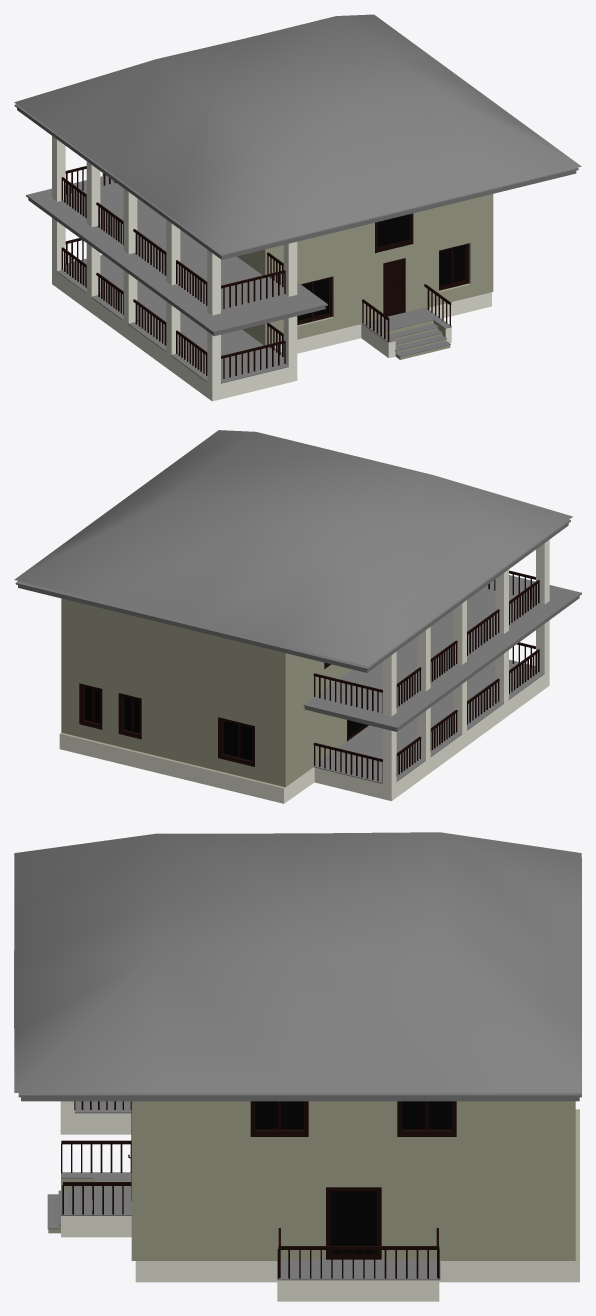
The model's file is gamecottage.fbx.
The picture shows the model from 3 angles, top to bottom: view 1: azimuth 30°, elevation 25°; view 2: azimuth 150°, elevation 25°; view 3: azimuth 270°, elevation 25°; orthographic projection. The views are drawn at different scales.
Visible parts, largest first — view 1: Plane003, Line001, Rectangle004, Line006, Line002, Rectangle006, FixedWindow002, PivotDoor001, PivotDoor003, Group001, FixedWindow001, Box011 (+22 smaller); view 2: Plane003, Line001, Rectangle004, Line002, Line006, Rectangle006, FixedWindow007, FixedWindow005, FixedWindow006, Railing018, Railing006, Box009 (+17 smaller); view 3: Plane003, Line001, Line002, Line006, Rectangle006, PivotDoor005, FixedWindow004, FixedWindow003, Railing010, Group001, Railing008, Railing009.
Boxes of the visible parts, <box> form: Plane003: <box>14,14,581,254</box>; Line001: <box>102,173,493,345</box>; Rectangle004: <box>26,175,327,336</box>; Line006: <box>57,255,451,383</box>; Line002: <box>52,269,491,401</box>; Rectangle006: <box>14,104,578,259</box>; FixedWindow002: <box>439,243,469,290</box>; PivotDoor001: <box>383,258,405,316</box>; PivotDoor003: <box>375,213,413,253</box>; Group001: <box>389,323,450,357</box>; FixedWindow001: <box>297,276,332,325</box>; Box011: <box>86,161,100,226</box>; Plane003: <box>14,430,572,666</box>; Line001: <box>61,598,351,787</box>; Rectangle004: <box>303,575,581,731</box>; Line002: <box>59,670,549,803</box>; Line006: <box>313,659,544,783</box>; Rectangle006: <box>15,519,570,672</box>; FixedWindow007: <box>218,717,254,766</box>; FixedWindow005: <box>79,683,102,729</box>; FixedWindow006: <box>118,693,141,739</box>; Railing018: <box>313,673,382,713</box>; Railing006: <box>313,742,382,782</box>; Box009: <box>383,651,396,716</box>; Plane003: <box>14,832,581,1092</box>; Line001: <box>131,1101,575,1260</box>; Line002: <box>60,1109,579,1301</box>; Line006: <box>61,1101,440,1280</box>; Rectangle006: <box>18,857,581,1101</box>; PivotDoor005: <box>326,1187,381,1259</box>; FixedWindow004: <box>397,1101,456,1136</box>; FixedWindow003: <box>250,1101,308,1136</box>; Railing010: <box>277,1246,439,1278</box>; Group001: <box>47,1186,91,1229</box>; Railing008: <box>61,1140,131,1172</box>; Railing009: <box>62,1182,131,1214</box>.
Size of the model in its own units: 1484 by 848 by 1452.
